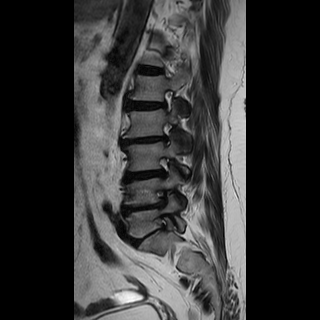LFS0: (157, 85, 177, 116)
LFS2: (151, 150, 174, 184), (155, 118, 177, 150)
LFS3: (146, 185, 176, 211)
